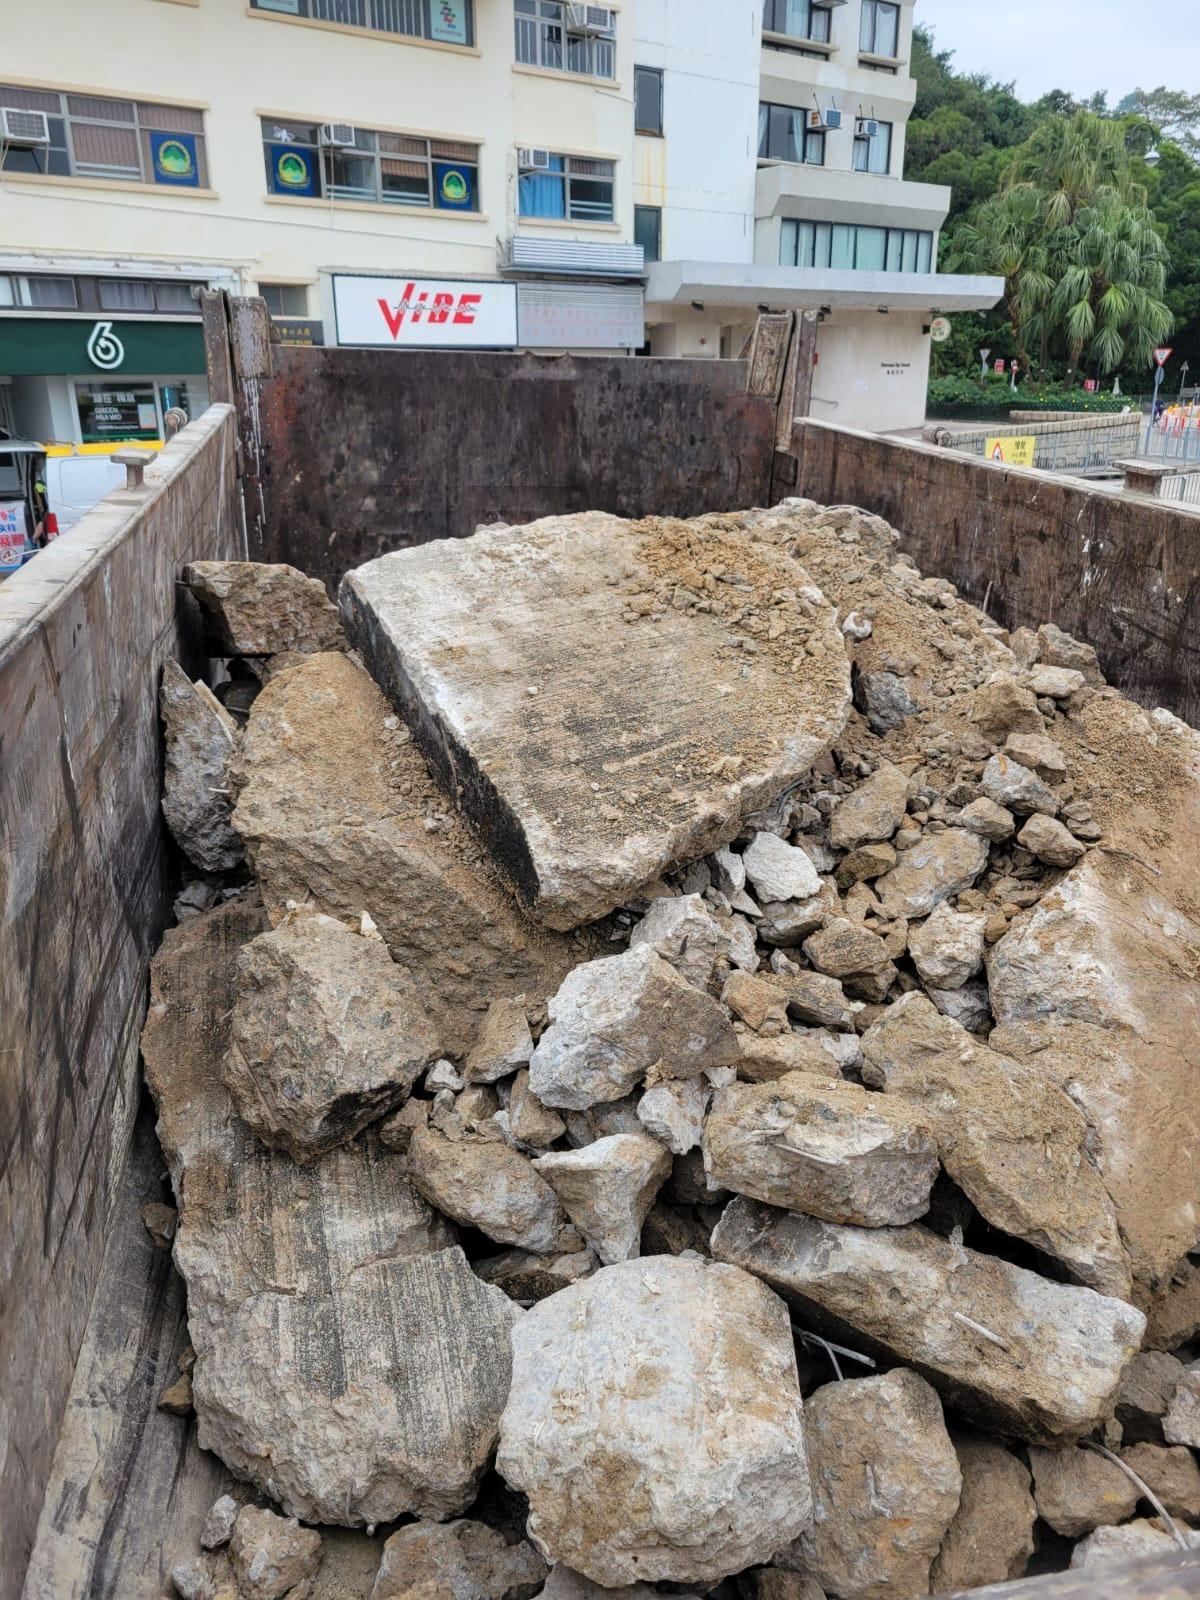dry: (205, 535, 1200, 1516)
